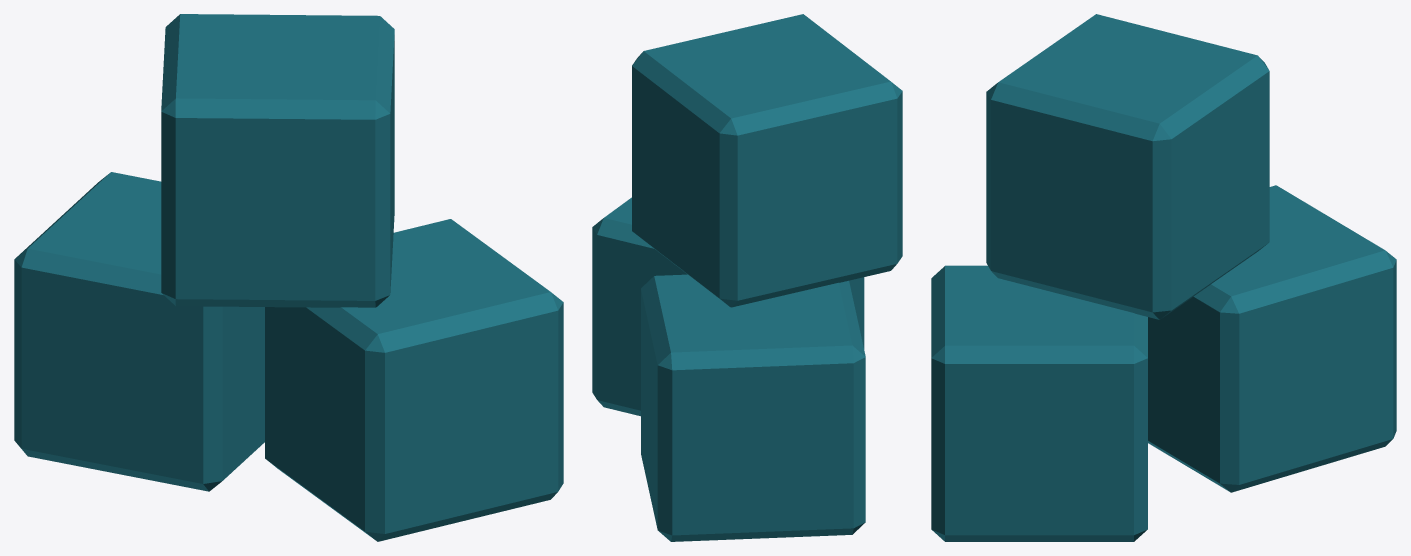
The model's file is ConjuntoCubosHielo.fbx.
3 views of the same model, side by side, from view 1: azimuth 30°, elevation 25°; view 2: azimuth 150°, elevation 25°; view 3: azimuth 270°, elevation 25° (orthographic). The views are drawn at different scales.
Visible parts, largest first — view 1: ConjuntoCubitos; view 2: ConjuntoCubitos; view 3: ConjuntoCubitos.
Boxes of the visible parts, <box> form: ConjuntoCubitos: <box>14,14,563,541</box>; ConjuntoCubitos: <box>592,14,902,541</box>; ConjuntoCubitos: <box>931,14,1396,541</box>.
Size of the model in its own units: 482 by 514 by 553.
